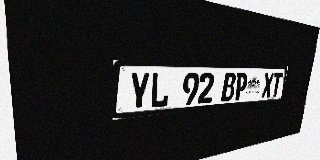2: (198, 72, 215, 104)
9: (182, 72, 200, 105)
B: (221, 72, 237, 102)
L: (150, 72, 170, 108)
P: (234, 73, 248, 100)
T: (271, 73, 283, 97)
X: (261, 73, 274, 98)
Y: (128, 72, 151, 110)
